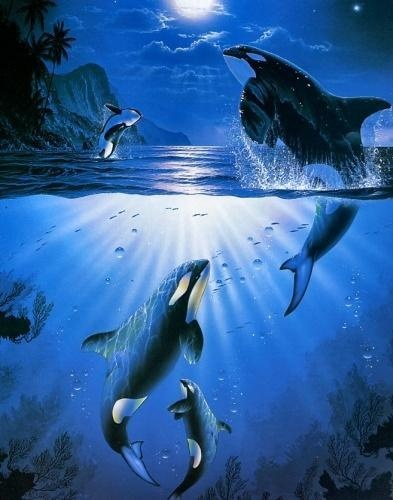fish: (215, 38, 393, 312), (75, 256, 215, 488), (172, 380, 223, 497), (98, 102, 140, 162)
